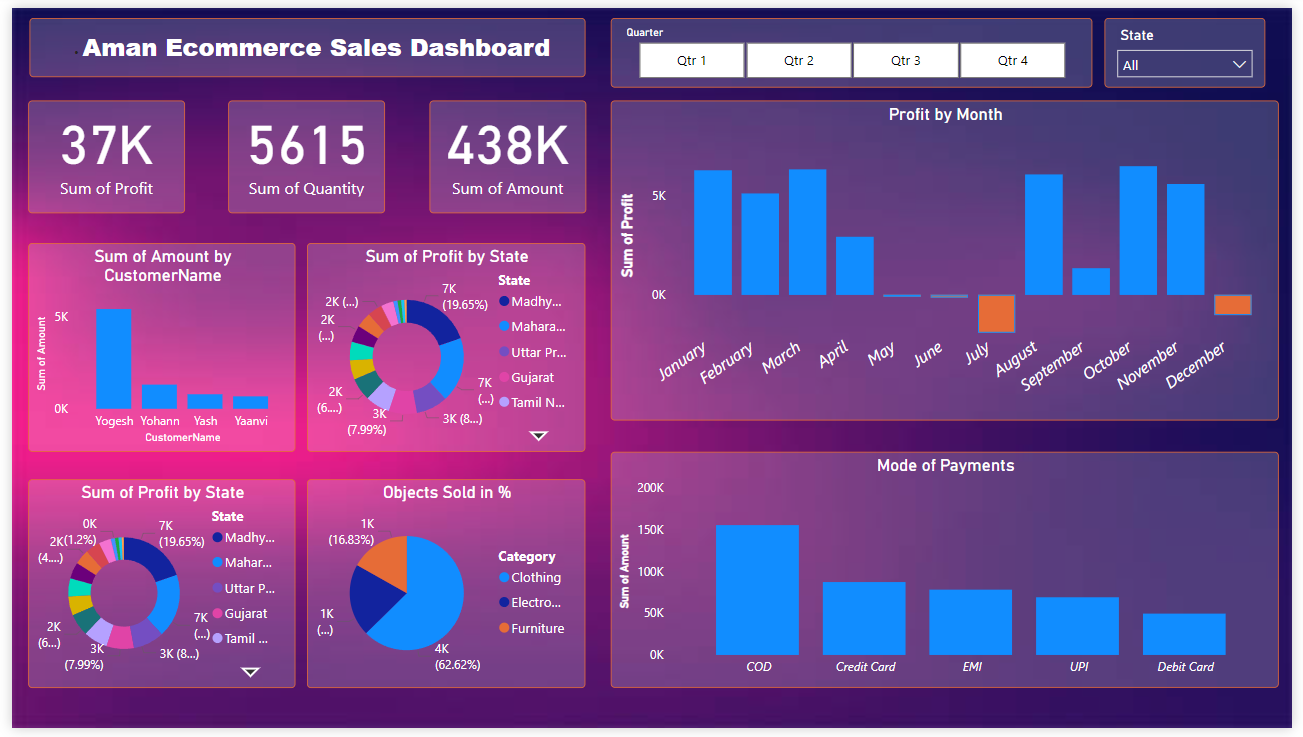

This screenshot's page, from the dashboard's own definition file:
{"tool":"powerbi","page":{"name":"Page 1","canvas":[1280,720],"ordinal":0},"visuals":[{"type":"clusteredColumnChart","title":"Profit by Month","fields":{"Category":["Copy of Orders.Order Date.Variation.Date Hierarchy.Month"],"Y":["Details.Profit"]},"box":[598.3,91.9,668.3,319.7],"z":0},{"type":"donutChart","fields":{"Category":["Copy of Orders.State"],"Y":["Details.Profit"]},"box":[295,234.6,278.6,208.6],"z":1000},{"type":"clusteredColumnChart","title":"Mode of Payments","fields":{"Category":["Details.PaymentMode"],"Y":["Details.Amount"]},"box":[598.3,443.2,668.3,236],"z":2000},{"type":"pieChart","title":"Objects Sold in %","fields":{"Category":["Details.Category"],"Y":["Details.Quantity"]},"box":[295,470.7,278.6,208.6],"z":3000},{"type":"card","fields":{"Values":["Details.Profit"]},"box":[16.5,91.9,156.4,112.5],"z":4000},{"type":"card","fields":{"Values":["Details.Amount"]},"box":[417.2,91.9,156.4,112.5],"z":5000},{"type":"card","fields":{"Values":["Details.Quantity"]},"box":[216.8,91.9,156.4,112.5],"z":6000},{"type":"textbox","box":[16.9,9.7,556.2,59.1],"z":7000},{"type":"clusteredColumnChart","fields":{"Category":["Copy of Orders.CustomerName"],"Y":["Details.Amount"]},"box":[16.5,234.6,267.6,208.6],"z":8000},{"type":"donutChart","fields":{"Category":["Copy of Orders.State"],"Y":["Details.Profit"]},"box":[16.5,470.7,267.6,208.6],"z":9000},{"type":"slicer","fields":{"Values":["Copy of Orders.Order Date.Variation.Date Hierarchy.Quarter"]},"box":[598.4,9.7,481.4,70],"z":10000},{"type":"slicer","fields":{"Values":["Copy of Orders.State"]},"box":[1093,9.7,160.5,70],"z":11000}]}

Visuals, with their boxes in screenshot pixels (x1, y1, x2, y2), scaled from the page's 1280x720 canvas onto the 1303x737 screenshot:
"Profit by Month" clusteredColumnChart: BBox(609, 94, 1289, 421)
donutChart - Copy of Orders.State x Details.Profit: BBox(300, 240, 584, 454)
"Mode of Payments" clusteredColumnChart: BBox(609, 454, 1289, 695)
"Objects Sold in %" pieChart: BBox(300, 482, 584, 695)
card - Details.Profit: BBox(17, 94, 176, 209)
card - Details.Amount: BBox(425, 94, 584, 209)
card - Details.Quantity: BBox(221, 94, 380, 209)
textbox: BBox(17, 10, 583, 70)
clusteredColumnChart - Copy of Orders.CustomerName x Details.Amount: BBox(17, 240, 289, 454)
donutChart - Copy of Orders.State x Details.Profit: BBox(17, 482, 289, 695)
slicer - Copy of Orders.Order Date.Variation.Date Hierarchy.Quarter: BBox(609, 10, 1099, 82)
slicer - Copy of Orders.State: BBox(1113, 10, 1276, 82)
